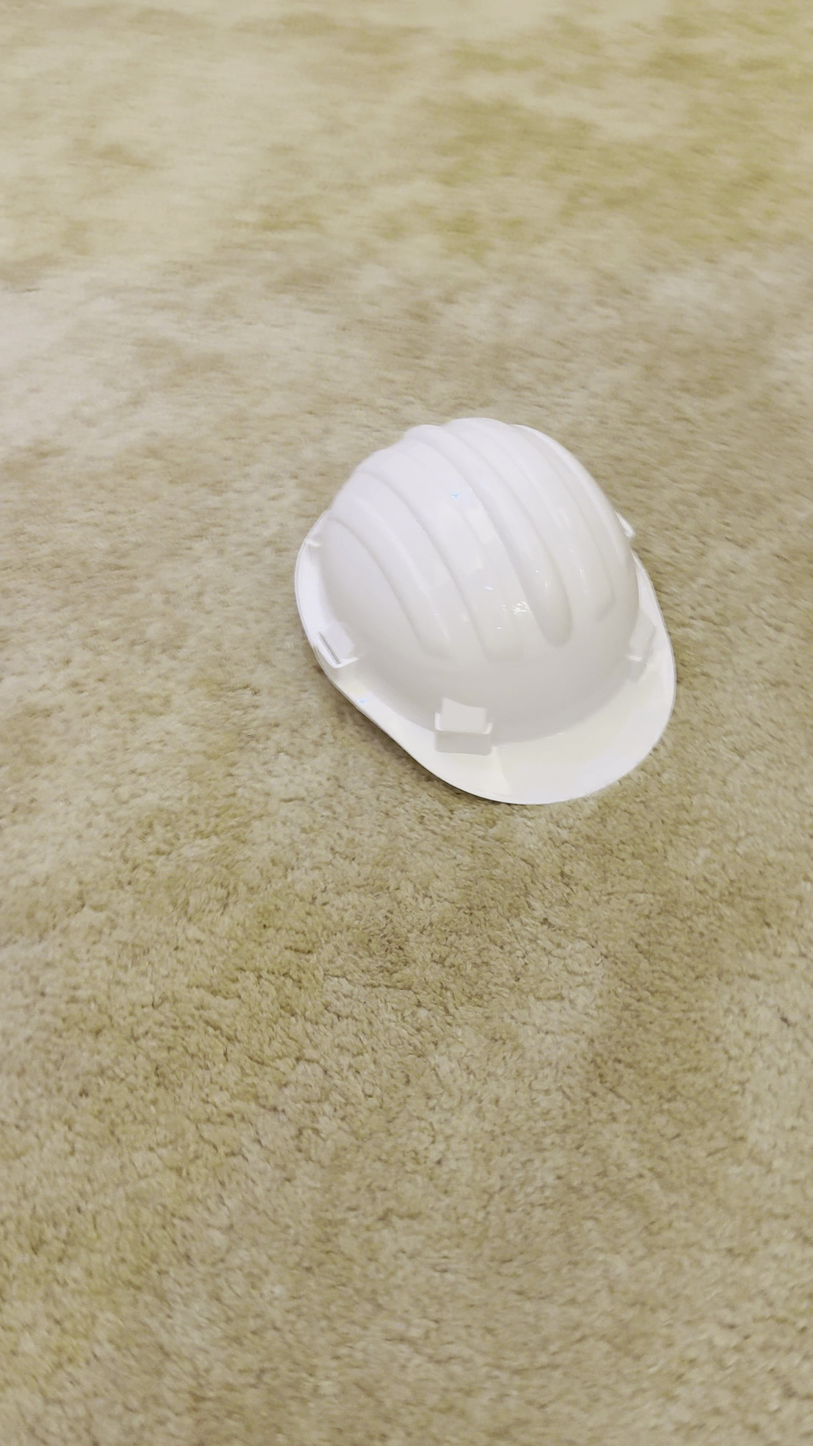safety_helmet: (291, 413, 678, 808)
